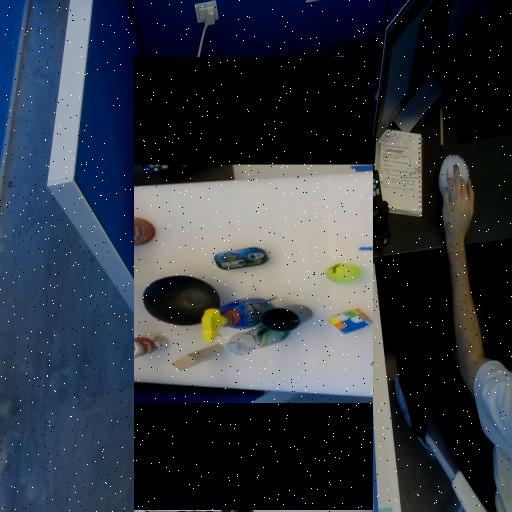bowl: (211, 174, 261, 249)
cleanser: (182, 254, 213, 319)
coffee_can: (291, 130, 320, 159)
jaco: (146, 402, 221, 511)
meat_can: (268, 245, 289, 298)
mug: (206, 304, 232, 330)
mustard_bottle: (246, 77, 266, 156)
rubik: (203, 359, 227, 401)
soup_can: (179, 145, 202, 197)
tennis_ball: (254, 357, 274, 391)
windex: (195, 246, 239, 287)
wooden_block: (166, 214, 192, 238)
workspace: (134, 171, 373, 398)
